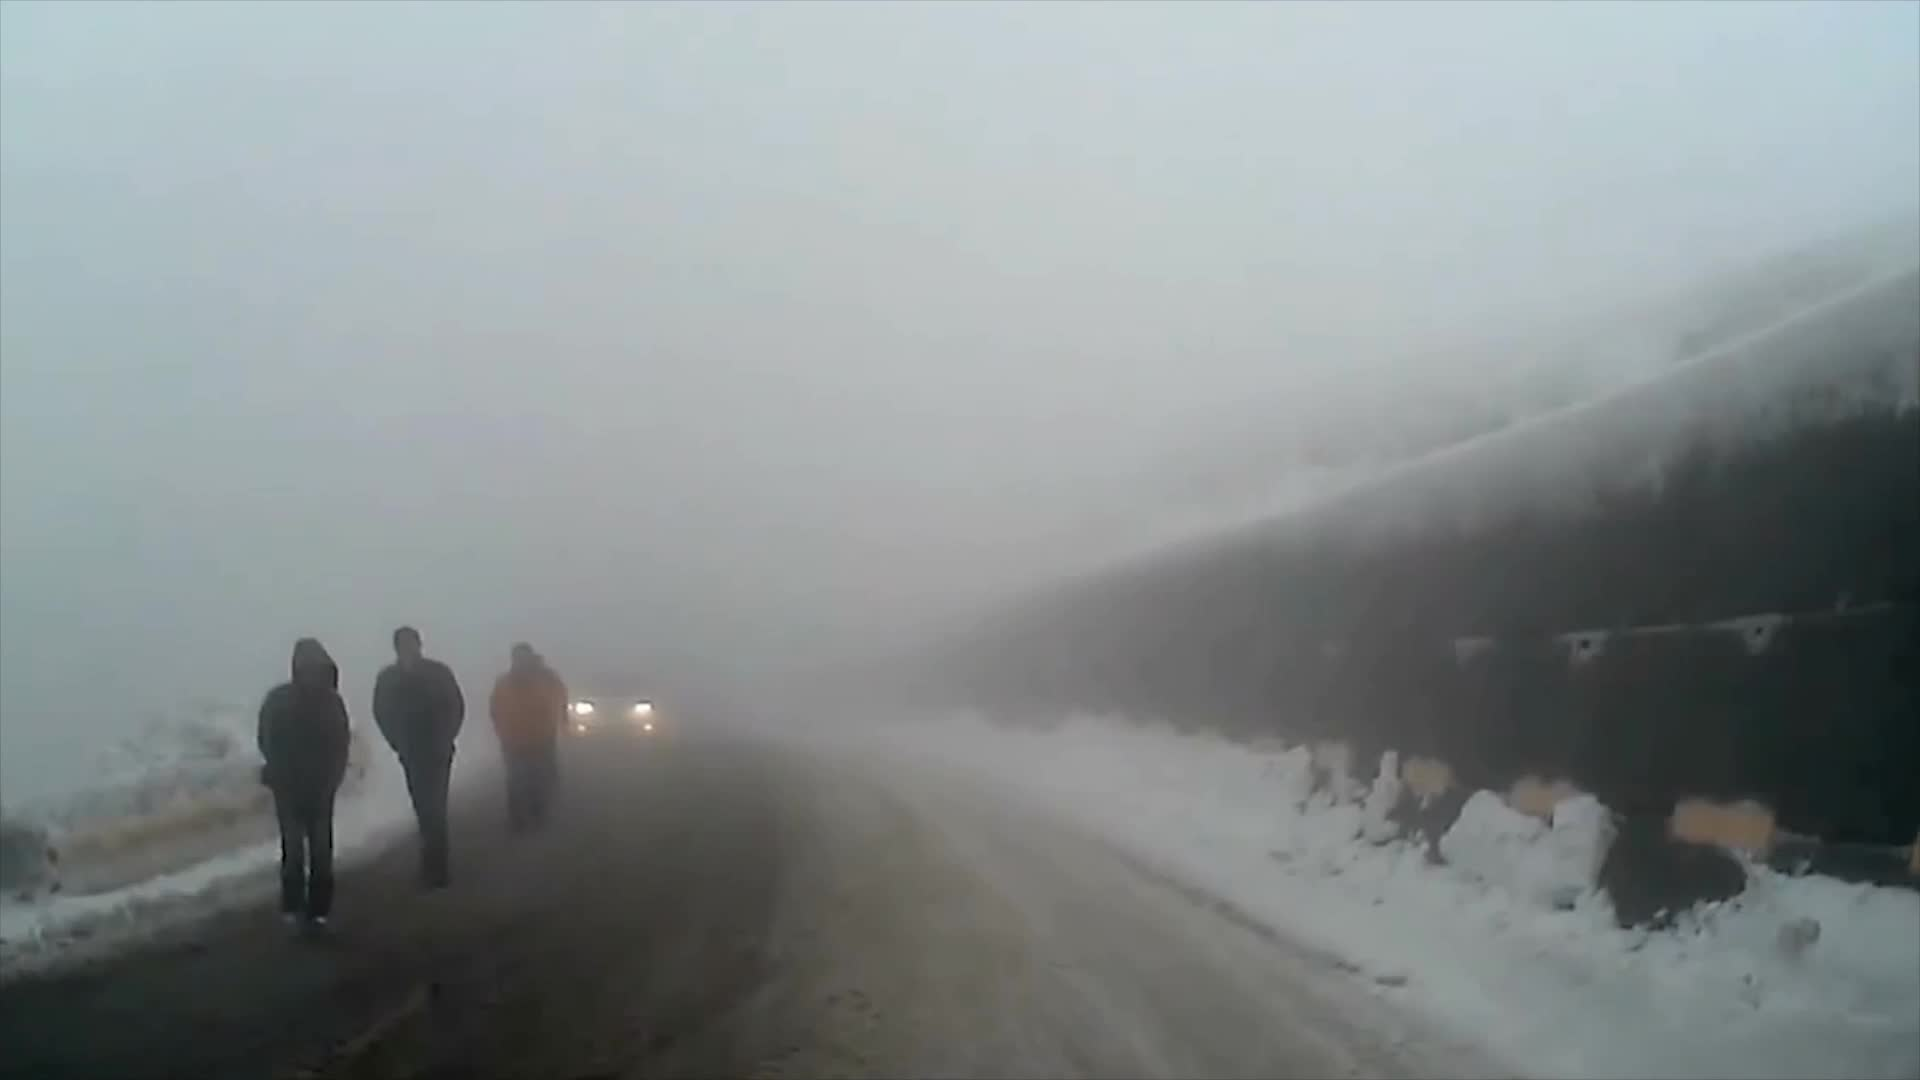pedestrian: (257, 635, 352, 931), (372, 630, 463, 896), (485, 640, 570, 838)
vehicle: (565, 675, 663, 749)
